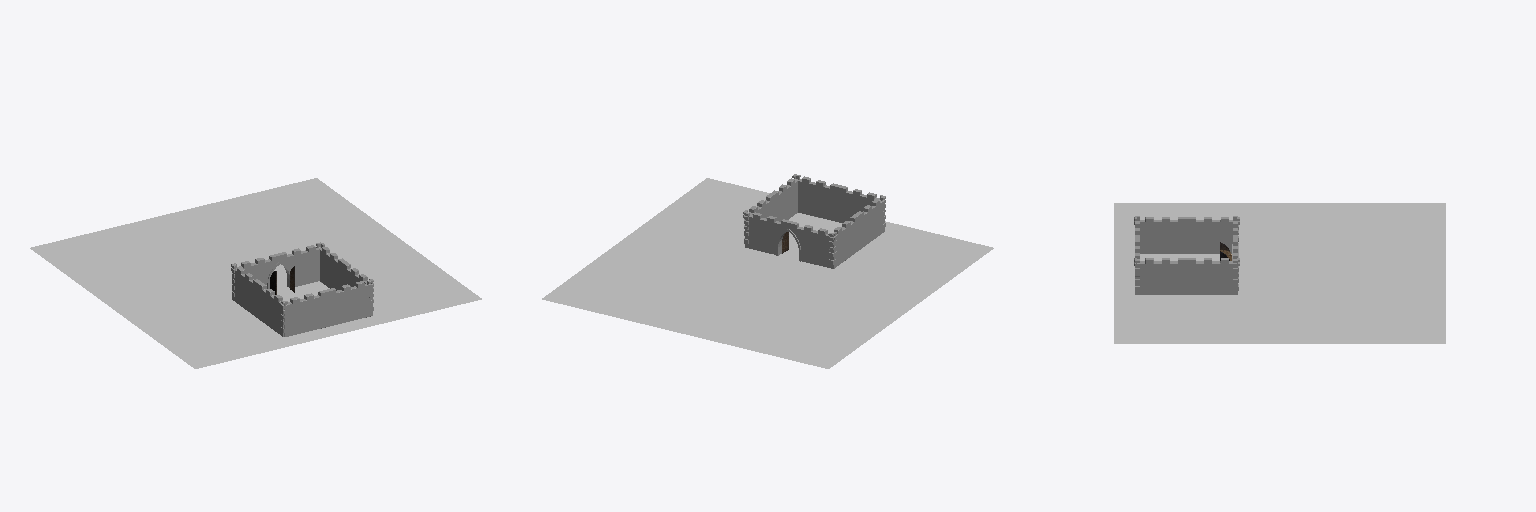
3 renders of one model, left to right at view 1: azimuth 30°, elevation 25°; view 2: azimuth 150°, elevation 25°; view 3: azimuth 270°, elevation 25°, orthographic.
Visible parts, largest first — view 1: Plane.010_Plane.007, Wall.011_Wall.010, Wall.016_Wall.015, Wall.015_Wall.014, Wall.014_Wall.013; view 2: Plane.010_Plane.007, Wall.016_Wall.015, Wall.011_Wall.010, Wall.015_Wall.014, Wall.014_Wall.013; view 3: Plane.010_Plane.007, Wall.014_Wall.013, Wall.015_Wall.014.
Part boxes in pixels (bbox=[...]): Plane.010_Plane.007: bbox=[30, 178, 481, 368]; Wall.011_Wall.010: bbox=[281, 279, 373, 336]; Wall.016_Wall.015: bbox=[231, 243, 324, 296]; Wall.015_Wall.014: bbox=[231, 263, 287, 336]; Wall.014_Wall.013: bbox=[316, 242, 372, 311]; Plane.010_Plane.007: bbox=[542, 178, 993, 368]; Wall.016_Wall.015: bbox=[743, 210, 836, 267]; Wall.011_Wall.010: bbox=[792, 174, 885, 228]; Wall.015_Wall.014: bbox=[828, 195, 884, 268]; Wall.014_Wall.013: bbox=[744, 174, 800, 247]; Plane.010_Plane.007: bbox=[1114, 203, 1445, 343]; Wall.014_Wall.013: bbox=[1134, 258, 1239, 294]; Wall.015_Wall.014: bbox=[1134, 217, 1239, 253].
Bounding box in the file's own units: 128 × 15 × 128.
3 materials, 1 textured.